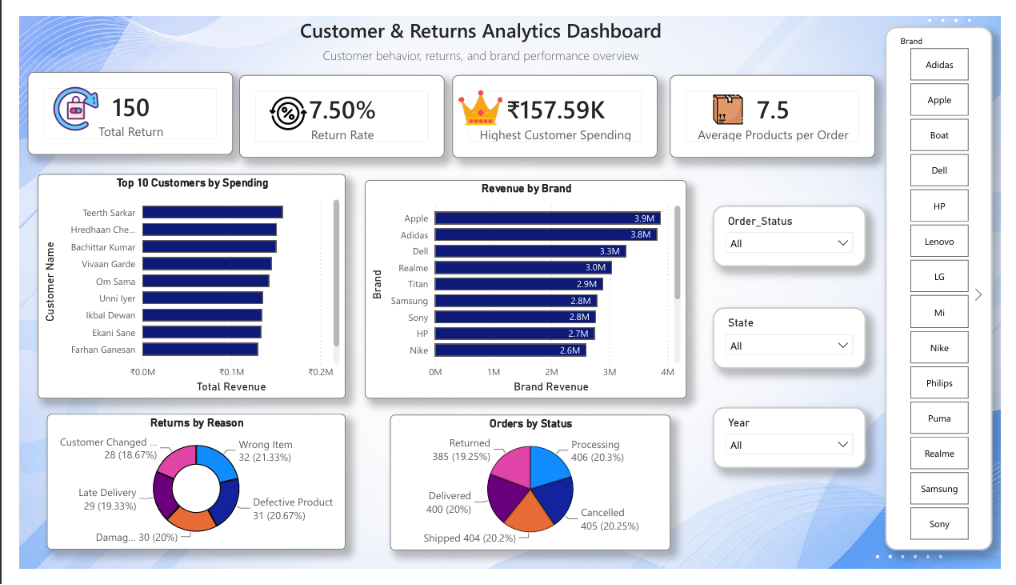

This screenshot's page, from the dashboard's own definition file:
{"tool":"powerbi","page":{"name":"Customer & Returns Analytics","canvas":[1280,720],"ordinal":1},"visuals":[{"type":"cardVisual","fields":{"Data":["Returns.Toatl Return"]},"box":[10,72,268,108],"z":0},{"type":"cardVisual","fields":{"Data":["Returns.Return Rate"]},"box":[286,76,268,108],"z":1000},{"type":"cardVisual","fields":{"Data":["Returns.Highest Customer Spending"]},"box":[564,76,268,108],"z":2000},{"type":"cardVisual","fields":{"Data":["Returns.Average Products per Order"]},"box":[848,76,268,108],"z":3000},{"type":"clusteredBarChart","title":"Top 10 Customers by Spending","fields":{"Category":["Customers.Customer Name"],"Y":["Orders.Total Revenue"]},"box":[23.3,205,401.7,293.3],"z":4000},{"type":"clusteredBarChart","title":"Revenue by Brand","fields":{"Y":["Products.Brand Revenue"],"Category":["Products.Brand"]},"box":[450,213.3,420,285],"z":5000},{"type":"donutChart","title":"Returns by Reason","fields":{"Category":["Returns.Return_Reason"],"Y":["Returns.Total Reurn_Id"]},"box":[35,518.3,390,176.7],"z":6000},{"type":"pieChart","title":"Orders by Status","fields":{"Category":["Orders.Order_Status"],"Y":["Orders.Total Orders"]},"box":[482.9,518.6,365.7,177.1],"z":7000},{"type":"slicer","fields":{"Values":["Orders.Order_Date.Variation.Date Hierarchy.Year"]},"box":[904.3,508.6,200,80],"z":8000},{"type":"slicer","fields":{"Values":["Products.Brand"]},"box":[1128.6,12.9,140,682.9],"z":9000},{"type":"slicer","fields":{"Values":["Customers.State"]},"box":[904.3,378.6,200,80],"z":10000},{"type":"slicer","fields":{"Values":["Orders.Order_Status"]},"box":[904.3,245.7,200,80],"z":11000},{"type":"image","box":[563.3,90,76.7,56.7],"z":12000},{"type":"image","box":[322,96,56,60],"z":13000},{"type":"image","box":[30,90,86,60],"z":14000},{"type":"image","box":[904,96,40,50],"z":15000},{"type":"textbox","title":"Customer & Returns Analytics Dashboard","box":[330,0,542.9,58.6],"z":16000}]}

Visuals, with their boxes in screenshot pixels (x1, y1, x2, y2), scaled from the page's 1280x720 canvas onto the 1016x585 screenshot:
cardVisual - Returns.Toatl Return: 8, 58, 221, 146
cardVisual - Returns.Return Rate: 227, 62, 440, 150
cardVisual - Returns.Highest Customer Spending: 448, 62, 660, 150
cardVisual - Returns.Average Products per Order: 673, 62, 886, 150
"Top 10 Customers by Spending" clusteredBarChart: 18, 167, 337, 405
"Revenue by Brand" clusteredBarChart: 357, 173, 691, 405
"Returns by Reason" donutChart: 28, 421, 337, 565
"Orders by Status" pieChart: 383, 421, 674, 565
slicer - Orders.Order_Date.Variation.Date Hierarchy.Year: 718, 413, 877, 478
slicer - Products.Brand: 896, 10, 1007, 565
slicer - Customers.State: 718, 308, 877, 373
slicer - Orders.Order_Status: 718, 200, 877, 265
image: 447, 73, 508, 119
image: 256, 78, 300, 127
image: 24, 73, 92, 122
image: 718, 78, 749, 119
"Customer & Returns Analytics Dashboard" textbox: 262, 0, 693, 48
